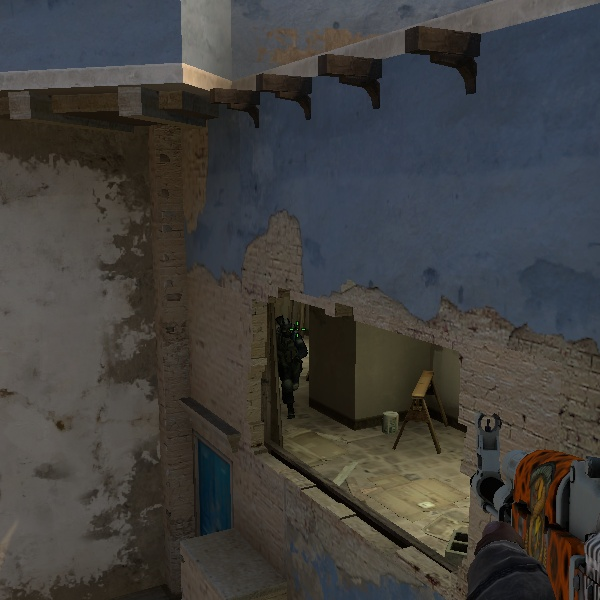ct_body: (272, 312, 318, 420)
